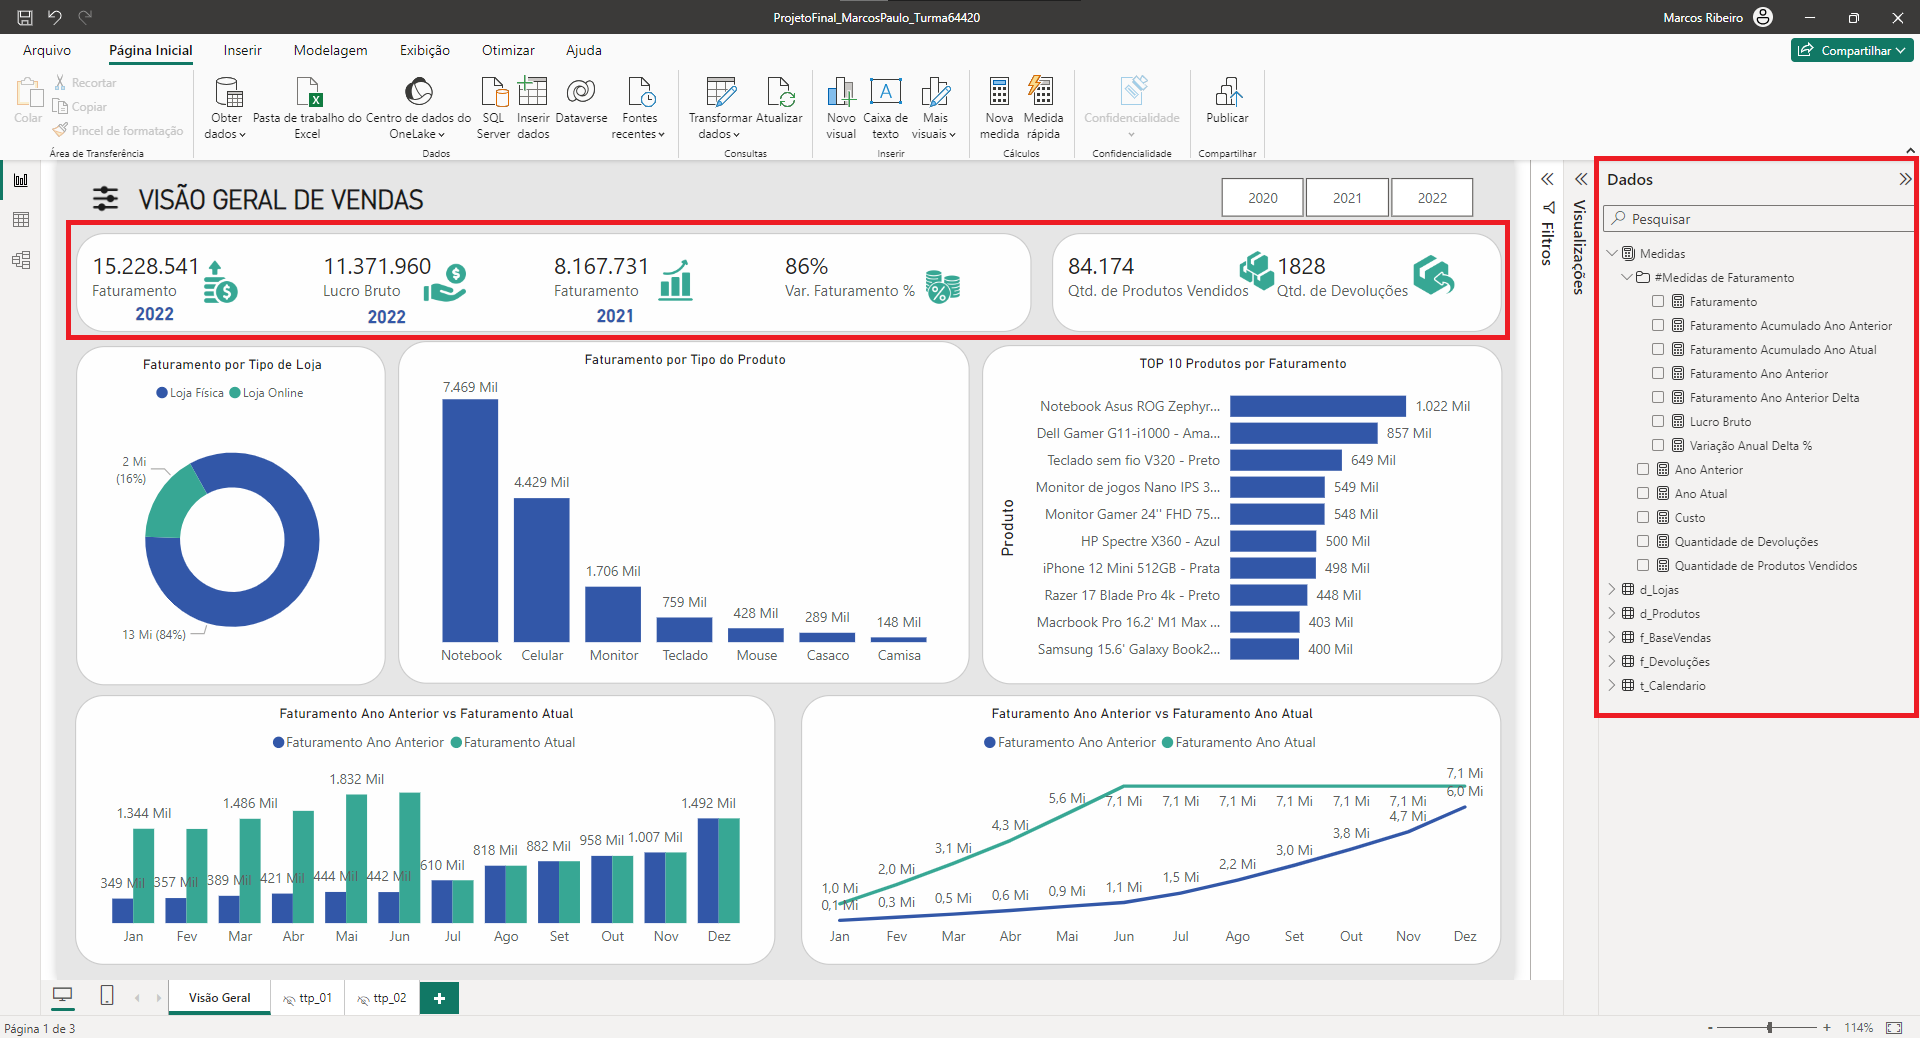

This screenshot's page, from the dashboard's own definition file:
{"tool":"powerbi","page":{"name":"Visão Geral","canvas":[1280,720],"ordinal":0},"visuals":[{"type":"multiRowCard","title":"Faturamento","fields":{"Values":["Medidas.Receita","Medidas.Lucro Bruto","Medidas.Faturamento Ano Anterior","Medidas.Variação Anual Delta %"]},"box":[16.3,64.2,839.3,87.2],"z":0},{"type":"slicer","fields":{"Values":["t_Calendario.Ano"]},"box":[996.6,8.8,271.3,48.3],"z":1000},{"type":"lineChart","title":"Faturamento Ano Anterior vs Faturamento Ano Atual ","fields":{"Category":["t_Calendario.Mês Abreviado"],"Y":["Medidas.Receita Acumulada Período Anterior","Medidas.Receita Acumulada Período Atual"]},"box":[653.7,470,614.9,237.3],"z":2000},{"type":"barChart","title":"TOP 10 Produtos por Faturamento","fields":{"Category":["d_Produtos.Produto"],"Y":["Medidas.Receita"]},"box":[811.8,162.8,456.6,298.1],"z":3000},{"type":"columnChart","fields":{"Y":["Medidas.Receita"],"Category":["d_Produtos.Tipo do Produto"]},"box":[299.6,159.3,502.4,301.4],"z":4000},{"type":"donutChart","title":"Faturamento por Tipo de Loja","fields":{"Y":["Medidas.Receita"],"Category":["d_Lojas.Tipo"]},"box":[16.3,162.9,272.5,297.8],"z":5000},{"type":"clusteredColumnChart","title":"Faturamento Ano Anterior vs Faturamento Atual","fields":{"Y":["Medidas.Receita Ano Anterior","Medidas.Receita"],"Category":["t_Calendario.Mês Abreviado"]},"box":[16,470,614.9,237.3],"z":6000},{"type":"card","fields":{"Values":["Medidas.Ano Atual"]},"box":[51.8,120.5,67.6,30.7],"z":7000},{"type":"card","fields":{"Values":["Medidas.Ano Anterior"]},"box":[457,121.7,68,30.7],"z":8000},{"type":"multiRowCard","title":"Faturamento","fields":{"Values":["Medidas.Quantidade de Vendas","Medidas.Quantidade de Devoluções"]},"box":[873.8,64.2,394.7,87.2],"z":9000},{"type":"image","box":[119.8,83.4,49.8,46.9],"z":10000},{"type":"image","box":[316.2,84.3,49.8,46.9],"z":11000},{"type":"image","box":[518.3,82.4,49.8,46],"z":12000},{"type":"image","box":[1028,73.8,50.8,46.9],"z":13000},{"type":"image","box":[1183.2,77.6,50.8,46.9],"z":14000},{"type":"image","box":[753.1,86.2,48.9,51.7],"z":15000},{"type":"card","fields":{"Values":["Medidas.Ano Atual"]},"box":[255.8,122.6,68,30.7],"z":16000},{"type":"textbox","box":[60.2,15.9,272.7,41.2],"z":17000},{"type":"image","box":[24.3,15.9,35.9,35.9],"z":18000},{"type":"actionButton","box":[15.7,12.8,53,40.3],"z":19000}]}

Visuals, with their boxes on the page's 1280x720 design canvas (x1, y1, x2, y2). These are canvas units, not pixel positions in the 1920x1038 screenshot, which may show the page scaled, cropped or inside an application window:
"Faturamento" multiRowCard: 16/64/856/151
slicer - t_Calendario.Ano: 997/9/1268/57
"Faturamento Ano Anterior vs Faturamento Ano Atual " lineChart: 654/470/1269/707
"TOP 10 Produtos por Faturamento" barChart: 812/163/1268/461
columnChart - Medidas.Receita x d_Produtos.Tipo do Produto: 300/159/802/461
"Faturamento por Tipo de Loja" donutChart: 16/163/289/461
"Faturamento Ano Anterior vs Faturamento Atual" clusteredColumnChart: 16/470/631/707
card - Medidas.Ano Atual: 52/120/119/151
card - Medidas.Ano Anterior: 457/122/525/152
"Faturamento" multiRowCard: 874/64/1268/151
image: 120/83/170/130
image: 316/84/366/131
image: 518/82/568/128
image: 1028/74/1079/121
image: 1183/78/1234/124
image: 753/86/802/138
card - Medidas.Ano Atual: 256/123/324/153
textbox: 60/16/333/57
image: 24/16/60/52
actionButton: 16/13/69/53
